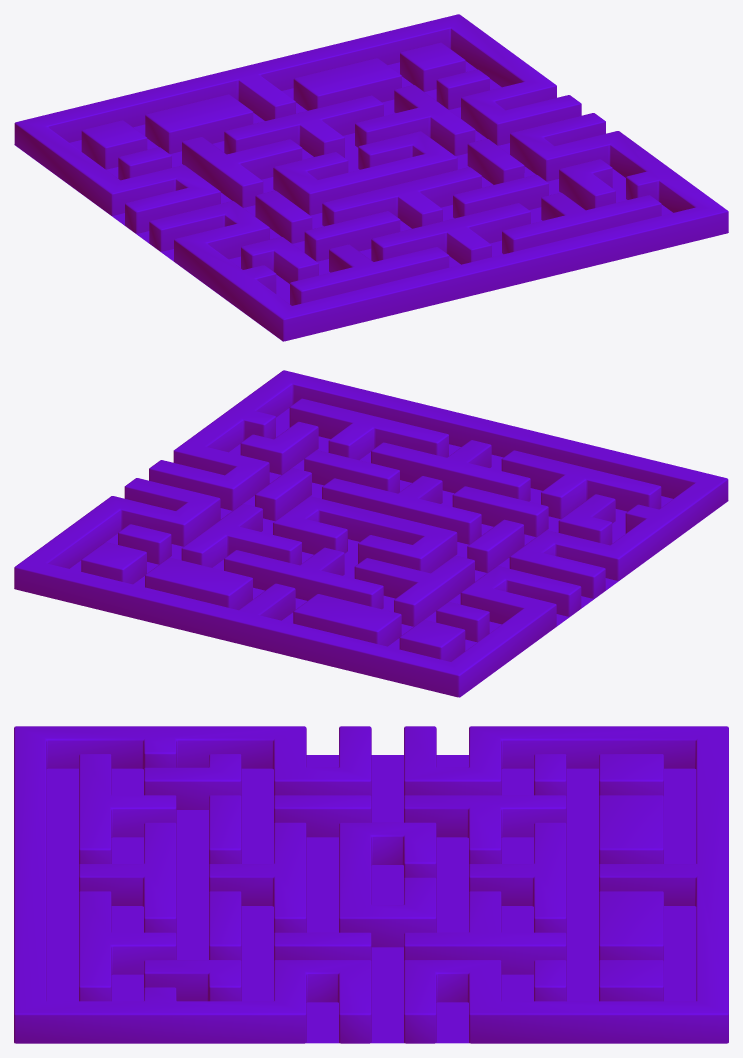
The model's file is pacmanmap1cullingTest.gltf.
3 renders of one model, top to bottom at view 1: azimuth 30°, elevation 25°; view 2: azimuth 150°, elevation 25°; view 3: azimuth 270°, elevation 25°, orthographic. The views are drawn at different scales.
Visible parts, largest first — view 1: wholemapallcombined, wholemapallcombined.003, wholemapallcombined.005, wholemapallcombined.014, wholemapallcombined.008, wholemapallcombined.013, wholemapallcombined.015, wholemapallcombined.006, wholemapallcombined.004, wholemapallcombined.019, wholemapallcombined.020, wholemapallcombined.009 (+9 smaller); view 2: wholemapallcombined, wholemapallcombined.003, wholemapallcombined.015, wholemapallcombined.013, wholemapallcombined.014, wholemapallcombined.005, wholemapallcombined.008, wholemapallcombined.006, wholemapallcombined.004, wholemapallcombined.019, wholemapallcombined.020, wholemapallcombined.009 (+9 smaller); view 3: wholemapallcombined, wholemapallcombined.003, wholemapallcombined.006, wholemapallcombined.004, wholemapallcombined.013, wholemapallcombined.005, wholemapallcombined.008, wholemapallcombined.014, wholemapallcombined.015, wholemapallcombined.019, wholemapallcombined.020, wholemapallcombined.016 (+9 smaller).
Part boxes in pixels (left/top/right/bottom): wholemapallcombined: left=14, top=14, right=728, bottom=341; wholemapallcombined.003: left=273, top=131, right=457, bottom=215; wholemapallcombined.005: left=224, top=95, right=383, bottom=157; wholemapallcombined.014: left=371, top=203, right=530, bottom=264; wholemapallcombined.008: left=322, top=167, right=481, bottom=228; wholemapallcombined.013: left=502, top=192, right=661, bottom=254; wholemapallcombined.015: left=290, top=244, right=449, bottom=305; wholemapallcombined.006: left=182, top=137, right=302, bottom=207; wholemapallcombined.004: left=355, top=85, right=475, bottom=155; wholemapallcombined.019: left=145, top=94, right=253, bottom=153; wholemapallcombined.020: left=293, top=58, right=401, bottom=110; wholemapallcombined.009: left=304, top=211, right=400, bottom=261; wholemapallcombined: left=14, top=370, right=728, bottom=697; wholemapallcombined.003: left=273, top=496, right=457, bottom=573; wholemapallcombined.015: left=501, top=450, right=661, bottom=518; wholemapallcombined.013: left=289, top=398, right=448, bottom=460; wholemapallcombined.014: left=371, top=440, right=530, bottom=501; wholemapallcombined.005: left=224, top=547, right=383, bottom=609; wholemapallcombined.008: left=322, top=476, right=481, bottom=544; wholemapallcombined.006: left=354, top=555, right=474, bottom=626; wholemapallcombined.004: left=181, top=504, right=301, bottom=567; wholemapallcombined.019: left=293, top=594, right=401, bottom=646; wholemapallcombined.020: left=145, top=557, right=252, bottom=609; wholemapallcombined.009: left=452, top=486, right=548, bottom=536; wholemapallcombined: left=14, top=726, right=728, bottom=1043; wholemapallcombined.003: left=339, top=822, right=436, bottom=947; wholemapallcombined.006: left=404, top=795, right=566, bottom=864; wholemapallcombined.004: left=404, top=891, right=566, bottom=974; wholemapallcombined.013: left=79, top=891, right=176, bottom=1001; wholemapallcombined.005: left=469, top=822, right=566, bottom=933; wholemapallcombined.008: left=209, top=822, right=306, bottom=933; wholemapallcombined.014: left=79, top=822, right=176, bottom=933; wholemapallcombined.015: left=79, top=754, right=176, bottom=864; wholemapallcombined.019: left=599, top=795, right=663, bottom=864; wholemapallcombined.020: left=599, top=891, right=663, bottom=960; wholemapallcombined.016: left=144, top=754, right=241, bottom=809.
Size of what is drawn, in the model's own units: 42.03 by 2 by 44.
